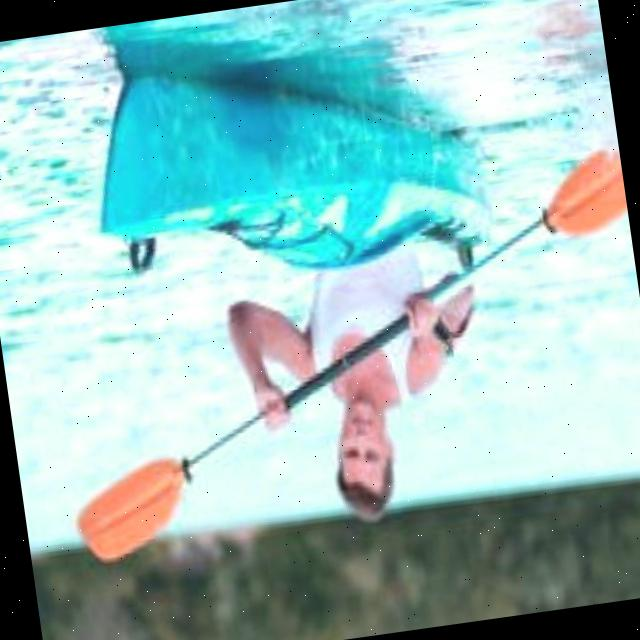kayak: (98, 84, 485, 274)
